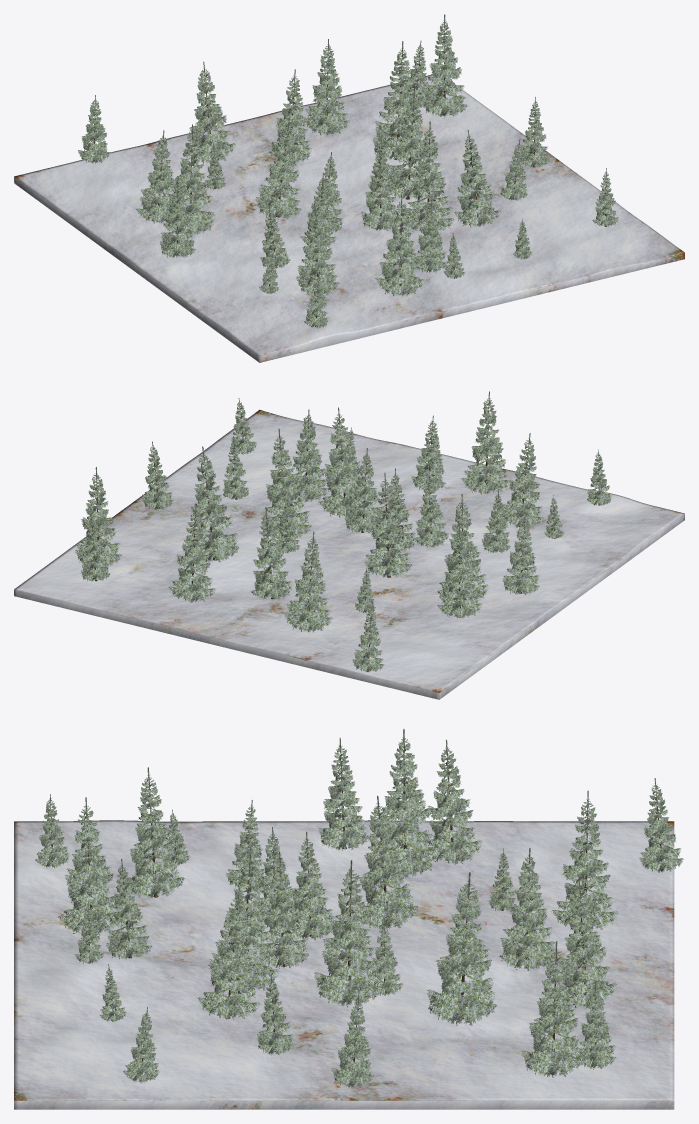
File: Winter Forest.fbx
3 views of the same model, one above another, from view 1: azimuth 30°, elevation 25°; view 2: azimuth 150°, elevation 25°; view 3: azimuth 270°, elevation 25° (orthographic). The views are drawn at different scales.
Parts seen in each view (by area): view 1: Fur Pine Tree.Shape; view 2: Fur Pine Tree.Shape; view 3: Fur Pine Tree.Shape.
Boxes of the visible parts, x1=… form: Fur Pine Tree.Shape: x1=14, y1=14, x2=684, y2=362; Fur Pine Tree.Shape: x1=14, y1=391, x2=684, y2=699; Fur Pine Tree.Shape: x1=14, y1=729, x2=683, y2=1109.
Bounding box in the file's own units: 3000 × 820 × 3048.
